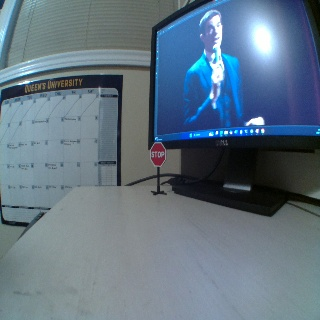sign_stop: (150, 141, 166, 165)
